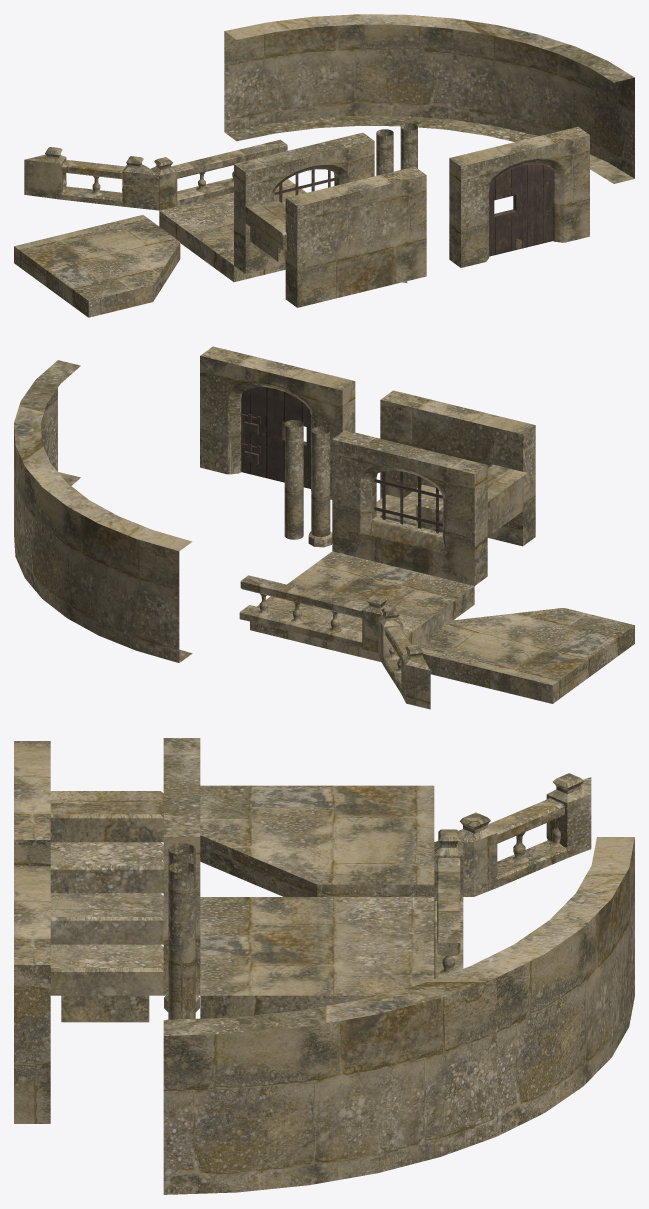
Rendered from CastleProps.fbx.
3 renders of one model, top to bottom at view 1: azimuth 30°, elevation 25°; view 2: azimuth 150°, elevation 25°; view 3: azimuth 270°, elevation 25°, orthographic. The views are drawn at different scales.
Parts seen in each view (by area): view 1: TowerCorner, Wall, FloorCorner, DoorFrame, WindowHi, RailingCorner, Door, Floor, RailingEdge, Stairs, Railing, Pillar (+2 smaller); view 2: TowerCorner, WindowHi, FloorCorner, Wall, Floor, DoorFrame, Door, Stairs, RailingCorner, RailingEdge, Railing, PillarBase (+2 smaller); view 3: TowerCorner, Stairs, Floor, FloorCorner, DoorFrame, RailingCorner, WindowHi, Wall, Pillar, Railing, RailingEdge, PillarBase.
Part boxes in pixels (x1=…): TowerCorner: x1=224, y1=14, x2=634, y2=183; Wall: x1=285, y1=166, x2=426, y2=307; FloorCorner: x1=14, y1=215, x2=180, y2=317; DoorFrame: x1=449, y1=126, x2=589, y2=267; WindowHi: x1=234, y1=132, x2=374, y2=273; RailingCorner: x1=24, y1=147, x2=158, y2=210; Door: x1=489, y1=163, x2=552, y2=256; Floor: x1=159, y1=179, x2=306, y2=282; RailingEdge: x1=150, y1=155, x2=223, y2=210; Stairs: x1=245, y1=199, x2=407, y2=282; Railing: x1=215, y1=139, x2=287, y2=194; Pillar: x1=400, y1=123, x2=417, y2=169; TowerCorner: x1=14, y1=360, x2=192, y2=662; WindowHi: x1=332, y1=430, x2=487, y2=585; FloorCorner: x1=418, y1=608, x2=634, y2=703; Wall: x1=380, y1=390, x2=535, y2=546; Floor: x1=250, y1=551, x2=474, y2=661; DoorFrame: x1=200, y1=346, x2=355, y2=499; Door: x1=240, y1=387, x2=310, y2=488; Stairs: x1=376, y1=464, x2=528, y2=533; RailingCorner: x1=378, y1=607, x2=430, y2=709; RailingEdge: x1=311, y1=593, x2=390, y2=652; Railing: x1=239, y1=575, x2=320, y2=636; PillarBase: x1=308, y1=426, x2=332, y2=547; TowerCorner: x1=163, y1=837, x2=634, y2=1194; Stairs: x1=50, y1=791, x2=163, y2=1022; Floor: x1=200, y1=897, x2=434, y2=1018; FloorCorner: x1=200, y1=785, x2=434, y2=896; DoorFrame: x1=14, y1=866, x2=50, y2=1123; RailingCorner: x1=437, y1=773, x2=591, y2=896; WindowHi: x1=163, y1=738, x2=200, y2=995; Wall: x1=14, y1=741, x2=50, y2=866; Pillar: x1=168, y1=862, x2=195, y2=1019; Railing: x1=434, y1=893, x2=463, y2=978; RailingEdge: x1=434, y1=829, x2=463, y2=936; PillarBase: x1=164, y1=843, x2=199, y2=1012.
Bounding box in the file's own units: 16.56 × 3.5 × 10.62.
3 materials, 3 textured.
